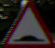Speed Breaker ahead: (6, 5, 48, 41)
